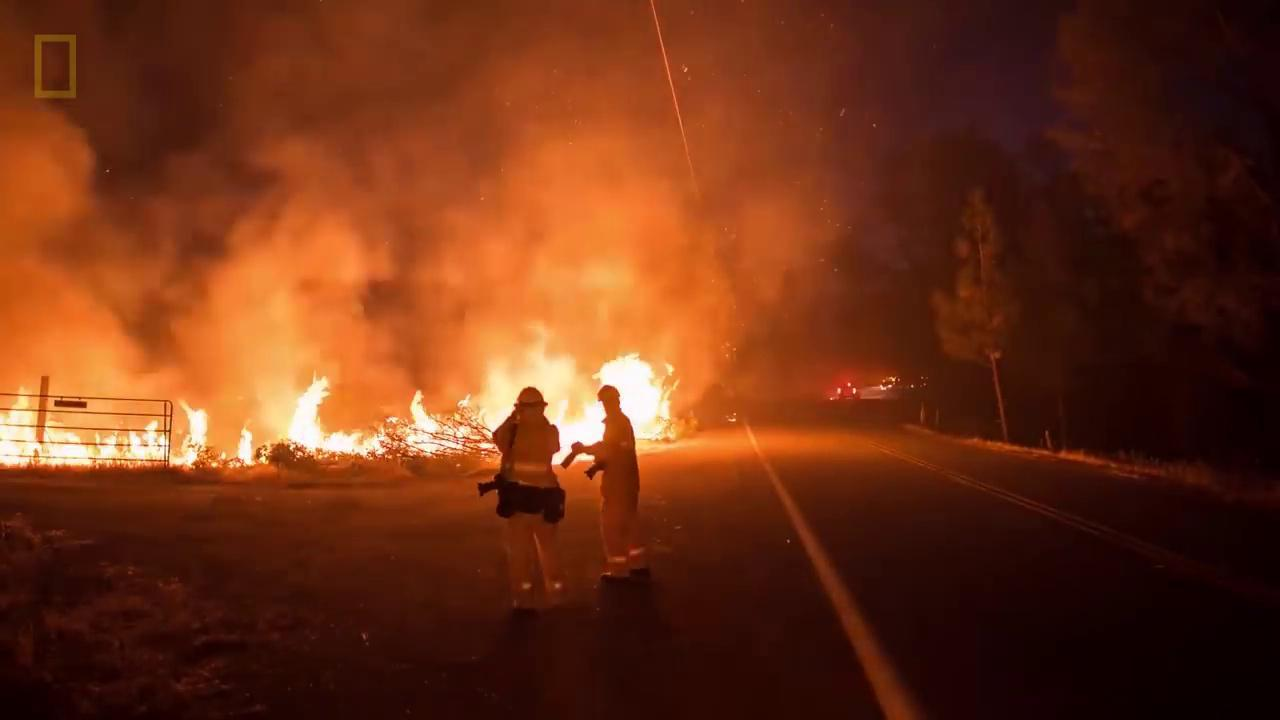Fire: (488, 317, 676, 462), (2, 386, 218, 470), (292, 378, 487, 460), (234, 430, 275, 467)
